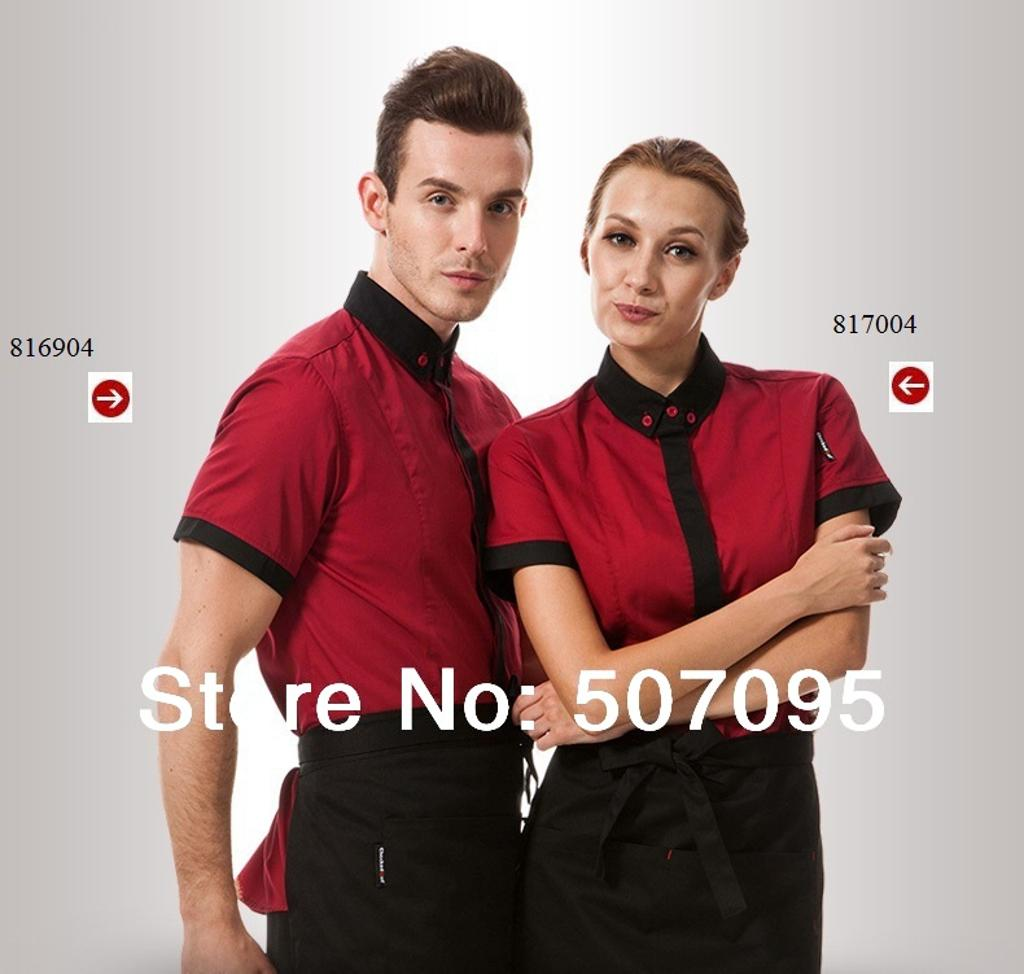face: (396, 112, 524, 316), (588, 158, 722, 348)
